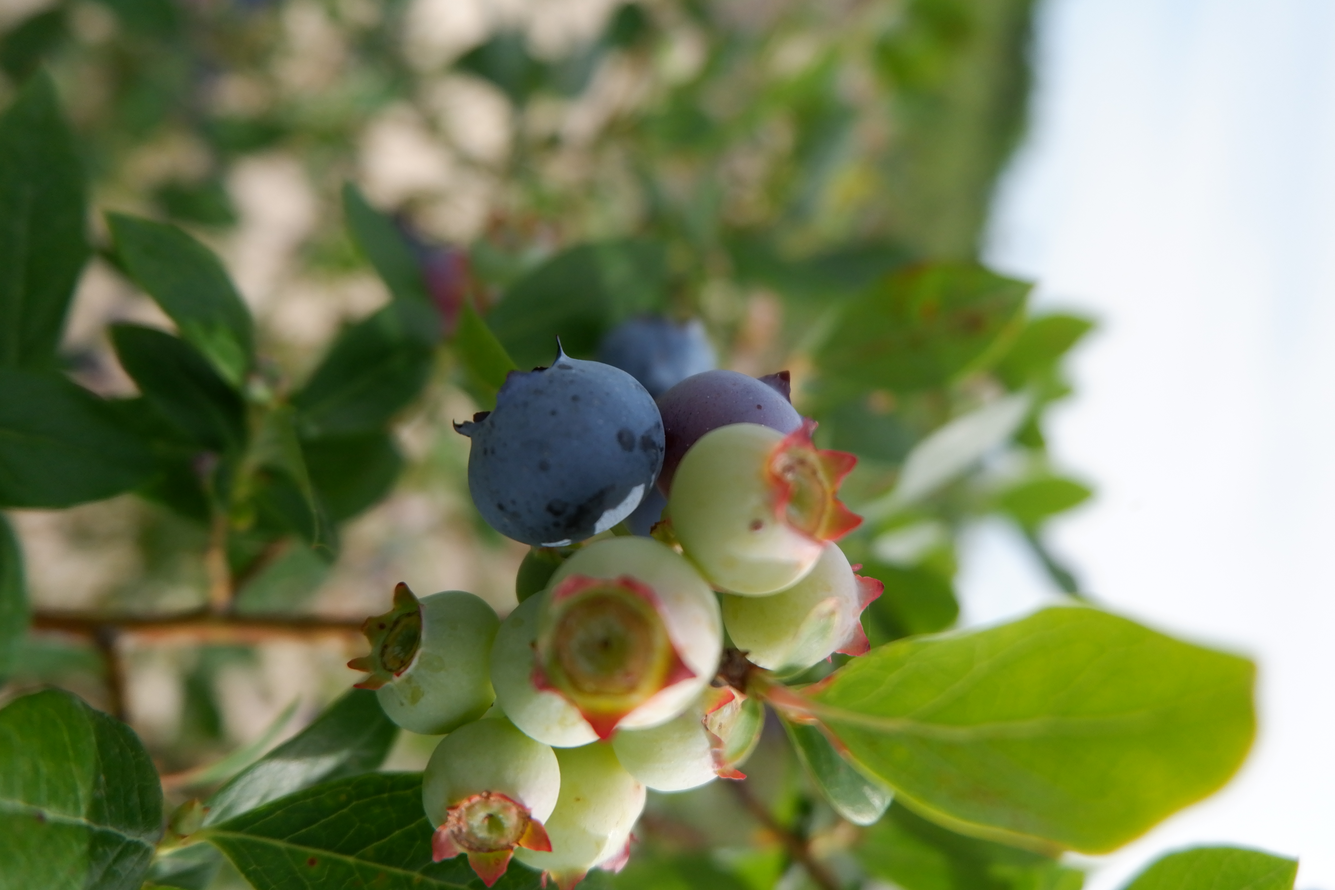Immature: (537, 539, 718, 728), (670, 422, 860, 592), (423, 721, 558, 887), (347, 589, 494, 733), (724, 547, 876, 669), (523, 744, 644, 880), (490, 596, 598, 746), (614, 688, 740, 788), (517, 548, 566, 600)
Mature: (465, 353, 659, 545), (659, 370, 804, 477), (599, 314, 710, 393), (616, 475, 665, 536)
